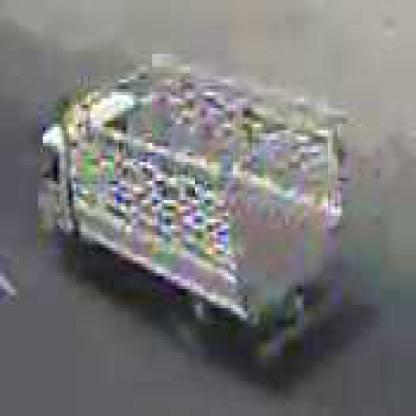truck: (49, 65, 348, 338)
